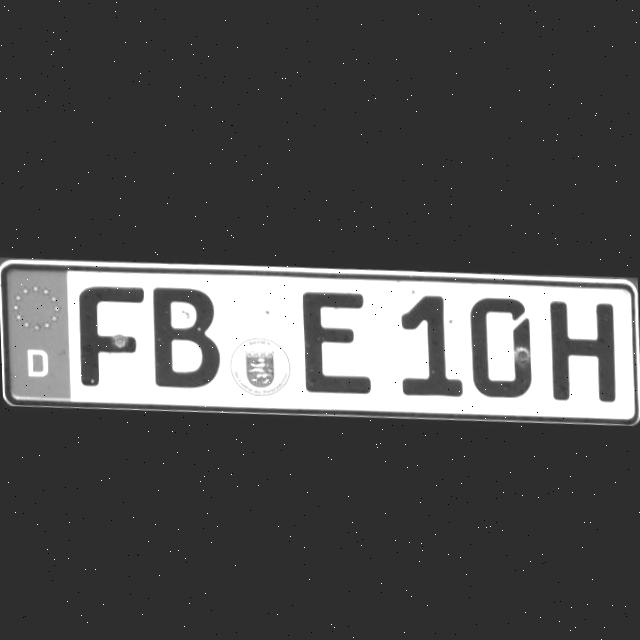license-plates: (0, 260, 640, 423)
